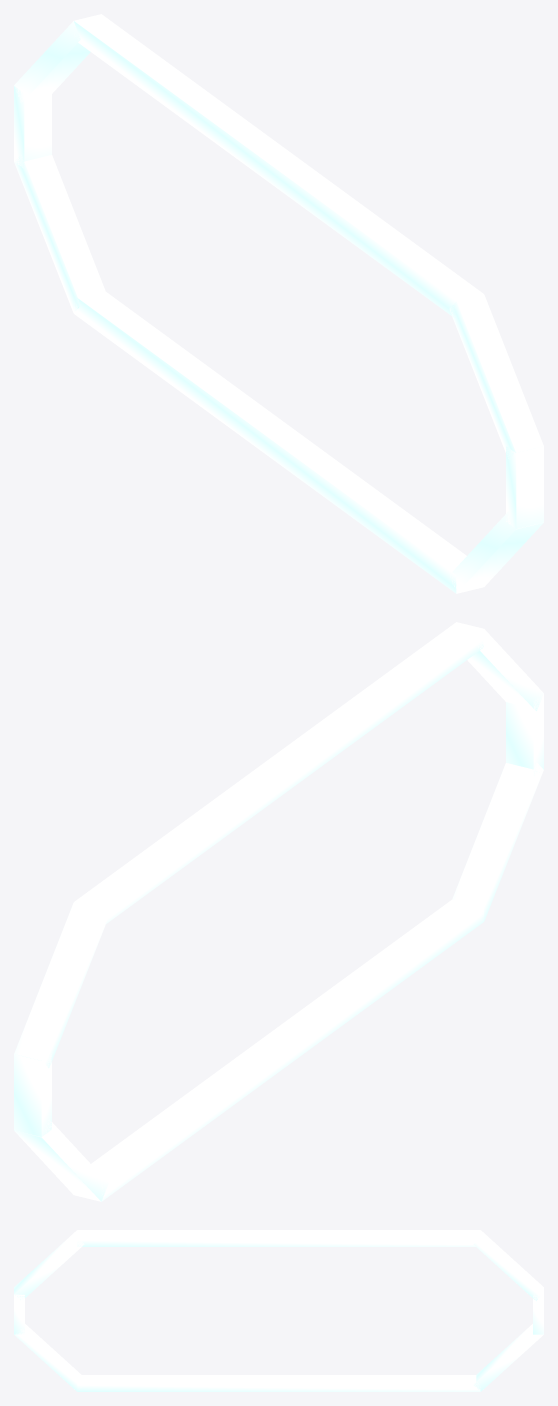
Rendered from SM_ApproachGate_Portal.fbx.
3 renders of one model, top to bottom at view 1: azimuth 30°, elevation 25°; view 2: azimuth 150°, elevation 25°; view 3: azimuth 270°, elevation 25°, orthographic. The views are drawn at different scales.
Visible parts, largest first — view 1: SM_ApproachGate_Portal; view 2: SM_ApproachGate_Portal; view 3: SM_ApproachGate_Portal.
Part boxes in pixels (<box>): SM_ApproachGate_Portal: <box>14,14,543,593</box>; SM_ApproachGate_Portal: <box>14,622,543,1201</box>; SM_ApproachGate_Portal: <box>14,1230,543,1391</box>.
Size of the model in its own units: 3.4 by 106 by 34.2.
